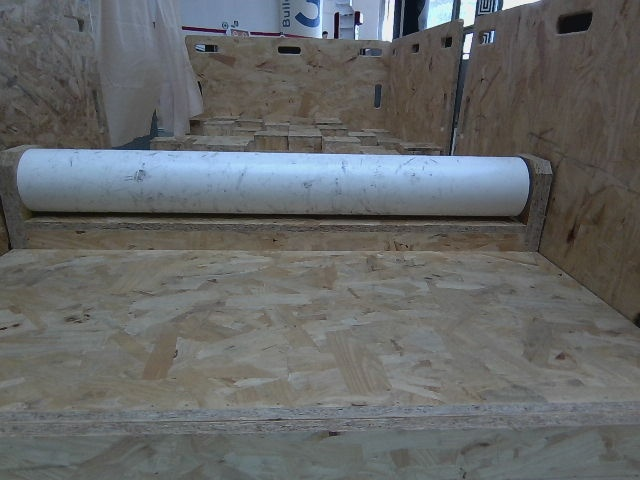curtain: (77, 0, 205, 134)
